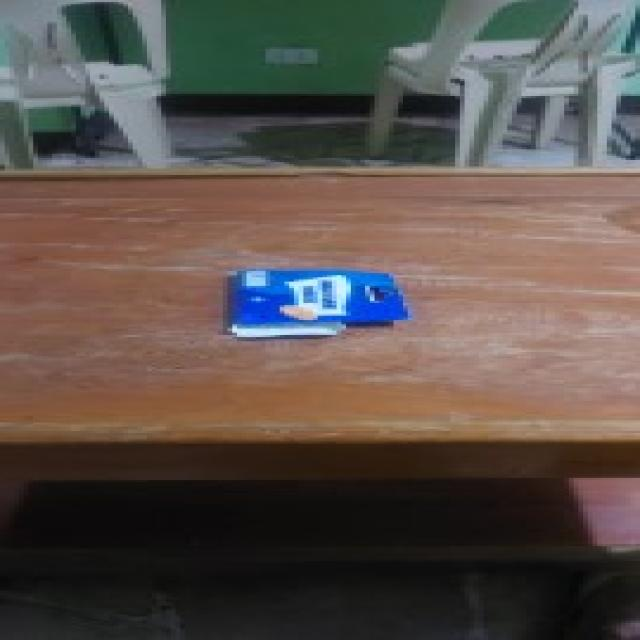Cacat: (224, 265, 412, 341)
Kemasan: (233, 316, 353, 338)
